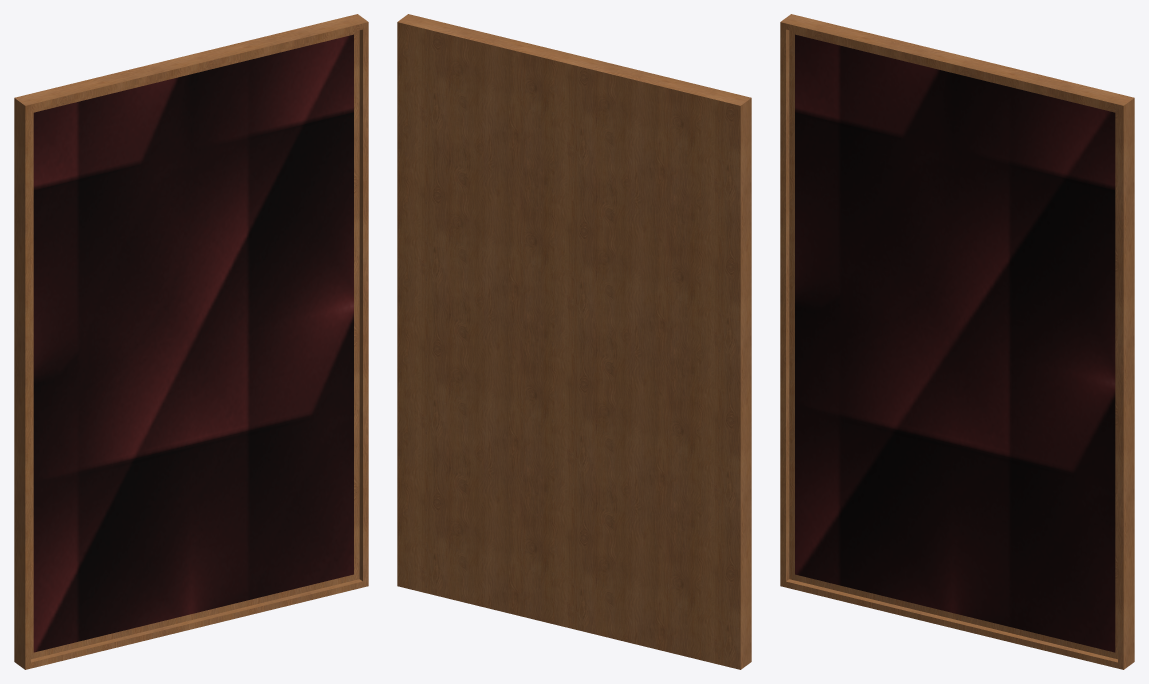
The model's file is PictureFrame3.FBX.
The picture shows the model from 3 angles, left to right: view 1: azimuth 30°, elevation 25°; view 2: azimuth 150°, elevation 25°; view 3: azimuth 330°, elevation 25°; orthographic projection.
Visible parts, largest first — view 1: PictureFrame1; view 2: PictureFrame1; view 3: PictureFrame1.
Part boxes in pixels (bbox=[...]): PictureFrame1: bbox=[14, 14, 368, 669]; PictureFrame1: bbox=[397, 14, 751, 669]; PictureFrame1: bbox=[780, 14, 1134, 669].
Bounding box in the file's own units: 59.5 × 93.38 × 3.32.
